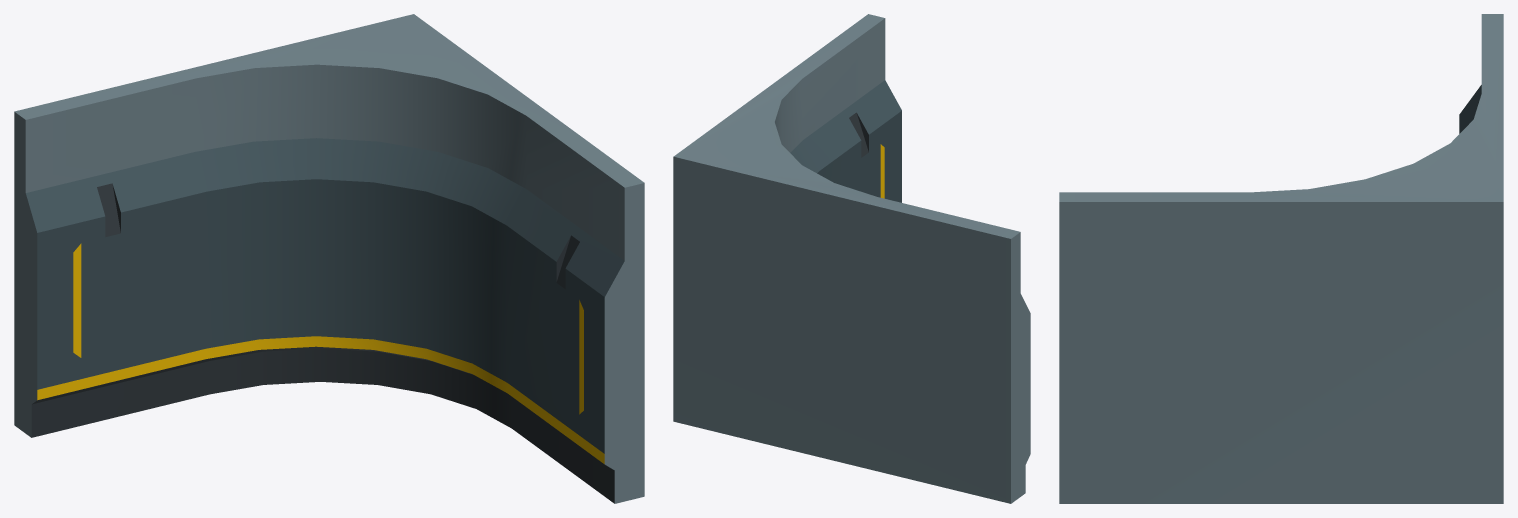
File: Wall_type_C_046.fbx
The picture shows the model from 3 angles, left to right: view 1: azimuth 30°, elevation 25°; view 2: azimuth 150°, elevation 25°; view 3: azimuth 270°, elevation 25°; orthographic projection. The views are drawn at different scales.
Visible parts, largest first — view 1: Wall_type_C_046; view 2: Wall_type_C_046; view 3: Wall_type_C_046.
Part boxes in pixels (x1,y1,x2,y2): Wall_type_C_046: (14,14,644,503); Wall_type_C_046: (673,14,1030,503); Wall_type_C_046: (1059,14,1503,503).
Bounding box in the file's own units: 200 × 200 × 150.
